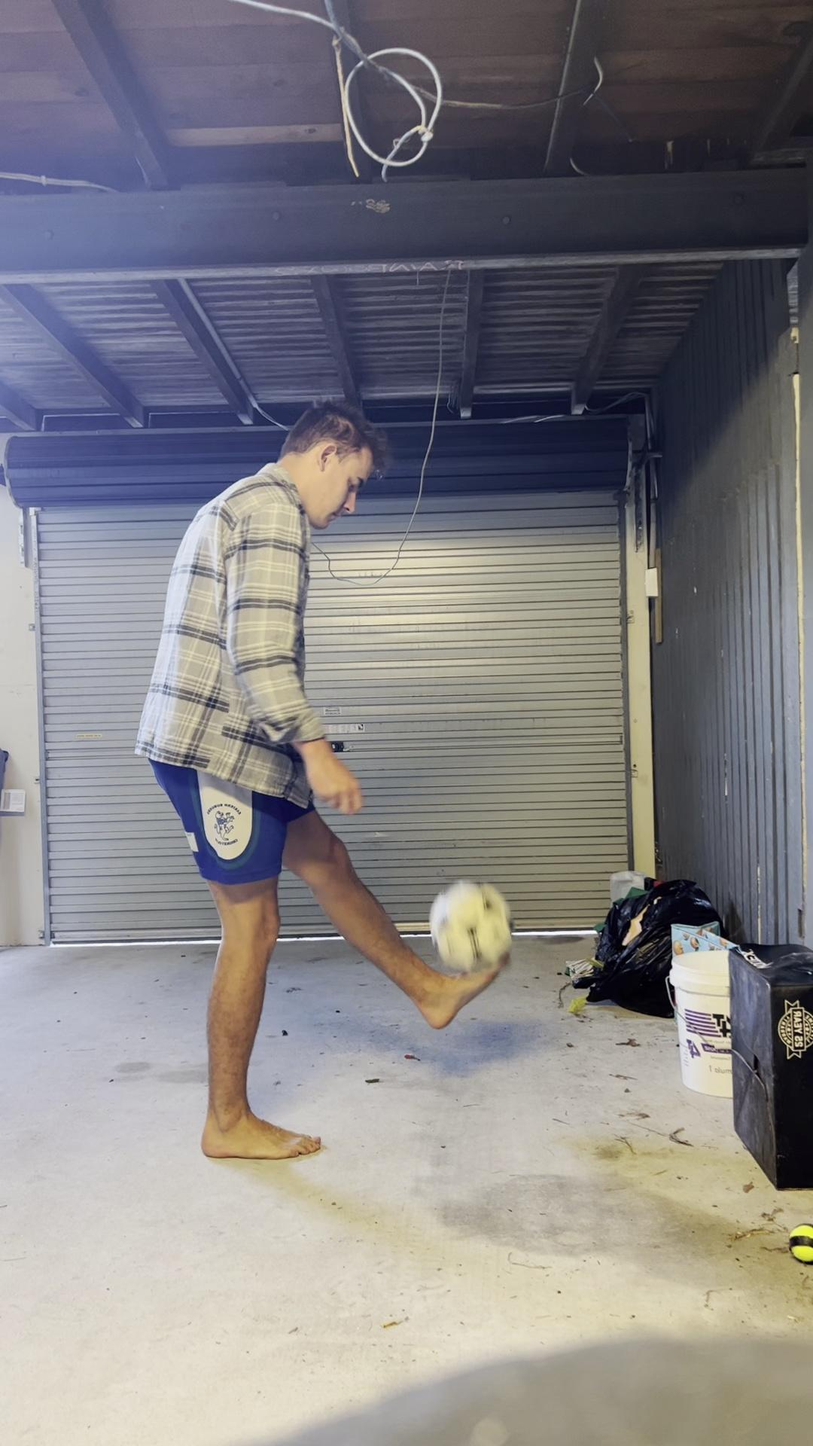ball: (430, 878, 513, 970)
foot: (201, 1107, 323, 1166), (414, 959, 508, 1032)
person: (133, 401, 510, 1165)
